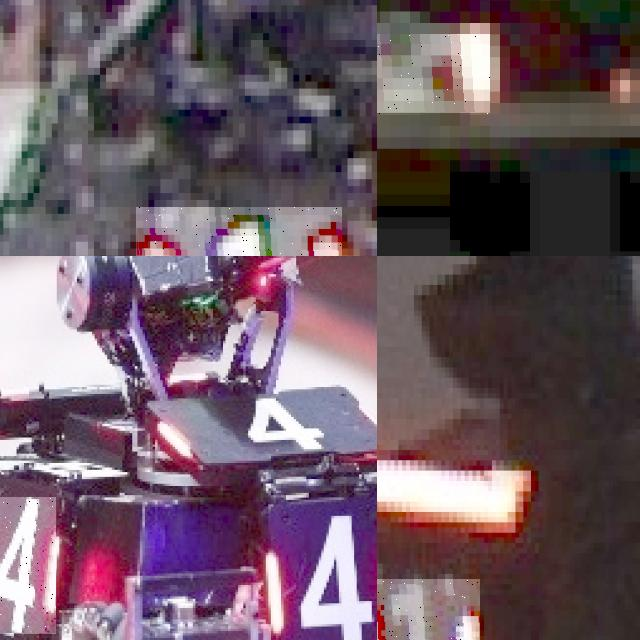R1: (136, 206, 341, 256), (377, 579, 480, 640)
R4: (263, 513, 377, 640), (0, 497, 56, 635)
Rs: (377, 34, 490, 114)
